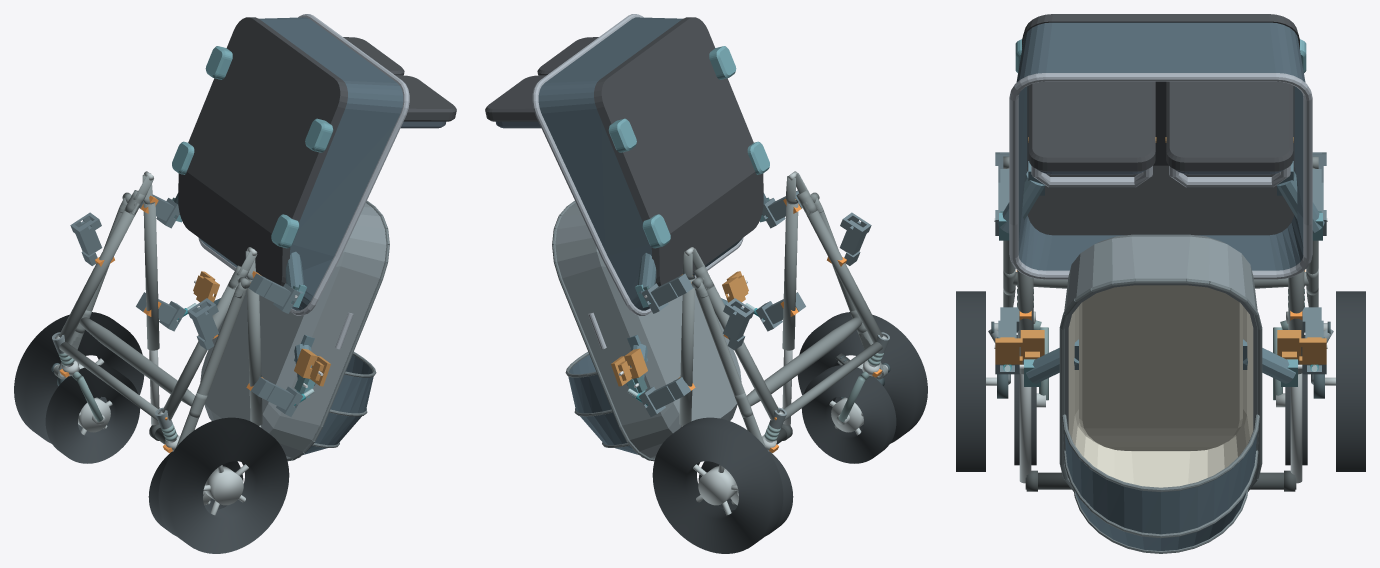
File: D31_w650_state3_wheel_L.glb
3 views of the same model, side by side, from view 1: azimuth 30°, elevation 25°; view 2: azimuth 150°, elevation 25°; view 3: azimuth 270°, elevation 25° (orthographic). The views are drawn at different scales.
Parts seen in each view (by area): view 1: D31_Lower, D31_Upper, RL_tire.008, FR_tire.008, RR_tire.008, V46_rearbar.009, main_upper_1.009, main_lower_1.009, V46_rear_leg_-1.009, main_upper_-1.009, main_lower_-1.009, front_fixed_round_tube.008 (+14 smaller); view 2: D31_Lower, D31_Upper, RR_tire.008, FL_tire.008, RL_tire.008, V46_rearbar.009, main_upper_-1.009, main_lower_-1.009, V46_rear_leg_1.009, main_upper_1.009, main_lower_1.009, front_fixed_round_tube.008 (+14 smaller); view 3: D31_Lower, D31_Upper, RL_tire.008, RR_tire.008, D31_Upper_Mount_H, D31_Lower_Mount_M, D02_WideAdapter_H_-1, D02_WideAdapter_H_1, handle_slider_1.008, handle_slider_-1.008, round_handle.008, FL_tire.008 (+8 smaller).
Boxes of the visible parts, <box> form: D31_Lower: <box>172,14,456,315</box>; D31_Upper: <box>200,200,389,461</box>; RL_tire.008: <box>158,417,289,553</box>; FR_tire.008: <box>45,365,140,463</box>; RR_tire.008: <box>14,312,144,443</box>; V46_rearbar.009: <box>79,317,194,406</box>; main_upper_1.009: <box>143,202,159,350</box>; main_lower_1.009: <box>59,203,139,343</box>; V46_rear_leg_-1.009: <box>176,288,246,447</box>; main_upper_-1.009: <box>246,278,262,425</box>; main_lower_-1.009: <box>162,284,237,420</box>; front_fixed_round_tube.008: <box>59,342,157,420</box>; D31_Lower: <box>485,14,769,315</box>; D31_Upper: <box>552,200,741,461</box>; RR_tire.008: <box>652,417,783,553</box>; FL_tire.008: <box>801,365,896,463</box>; RL_tire.008: <box>797,312,927,443</box>; V46_rearbar.009: <box>747,317,862,406</box>; main_upper_-1.009: <box>782,201,798,350</box>; main_lower_-1.009: <box>802,203,882,343</box>; V46_rear_leg_1.009: <box>695,288,765,447</box>; main_upper_1.009: <box>679,276,695,425</box>; main_lower_1.009: <box>704,284,779,420</box>; front_fixed_round_tube.008: <box>784,342,882,420</box>; D31_Lower: <box>1009,14,1312,279</box>; D31_Upper: <box>1059,234,1262,553</box>; RL_tire.008: <box>956,291,985,471</box>; RR_tire.008: <box>1336,291,1365,471</box>; D31_Upper_Mount_H: <box>1019,339,1302,386</box>; D31_Lower_Mount_M: <box>994,161,1327,240</box>; D02_WideAdapter_H_-1: <box>994,330,1044,364</box>; D02_WideAdapter_H_1: <box>1277,330,1327,364</box>; handle_slider_1.008: <box>1290,373,1302,483</box>; handle_slider_-1.008: <box>1019,373,1031,483</box>; round_handle.008: <box>1025,472,1296,489</box>; FL_tire.008: <box>1014,335,1036,465</box>.
Bounding box in the file's own units: 0.9659 × 1.19 × 0.8171.
